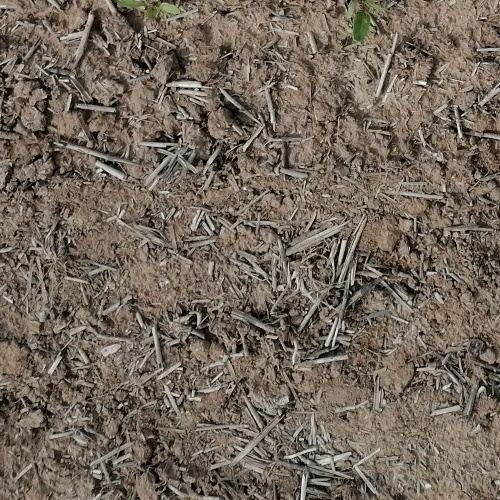beet: (114, 0, 179, 21), (351, 0, 376, 44)
